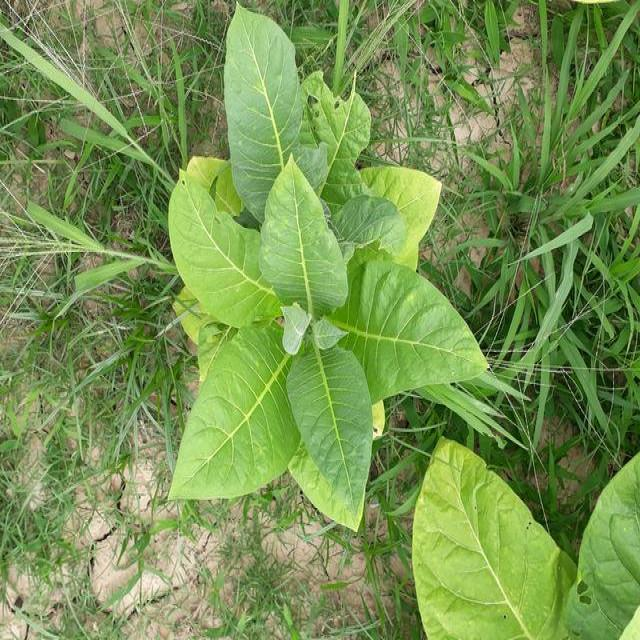crop: (166, 4, 479, 519), (414, 439, 640, 640)
